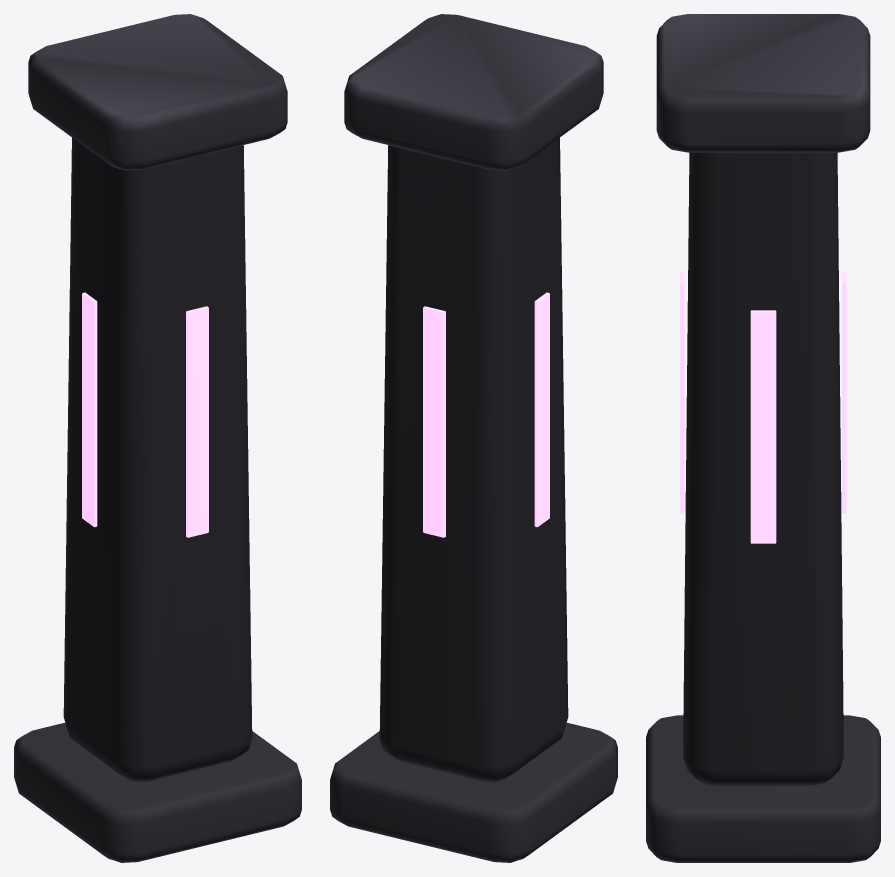
Rendered from PilarCripta.fbx.
3 views of the same model, side by side, from view 1: azimuth 30°, elevation 25°; view 2: azimuth 150°, elevation 25°; view 3: azimuth 270°, elevation 25° (orthographic). The views are drawn at different scales.
Visible parts, largest first — view 1: PilarCripta; view 2: PilarCripta; view 3: PilarCripta.
Boxes of the visible parts, x1,y1,x2,y2 form: PilarCripta: (14,14,301,862); PilarCripta: (330,14,617,862); PilarCripta: (646,14,880,862).
Bounding box in the file's own units: 1.1 × 3.94 × 1.1.
